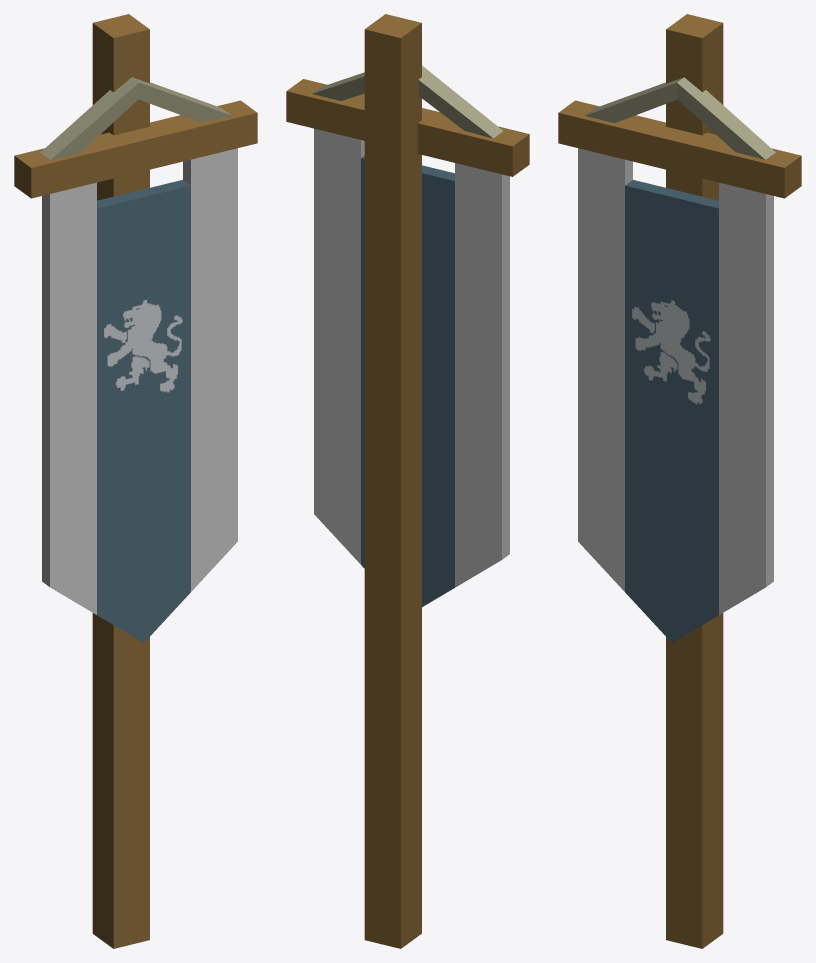
The model's file is Flag.gltf.
The picture shows the model from 3 angles, left to right: view 1: azimuth 30°, elevation 25°; view 2: azimuth 150°, elevation 25°; view 3: azimuth 330°, elevation 25°; orthographic projection.
Visible parts, largest first — view 1: SF_Prop_Flag_01; view 2: SF_Prop_Flag_01; view 3: SF_Prop_Flag_01.
Boxes of the visible parts, bbox=[...] form: SF_Prop_Flag_01: bbox=[14, 14, 257, 948]; SF_Prop_Flag_01: bbox=[286, 14, 529, 948]; SF_Prop_Flag_01: bbox=[558, 14, 801, 948].
Bounding box in the file's own units: 0.0142 × 0.0548 × 0.00367.
Materials: 1 (1 with a texture image).
